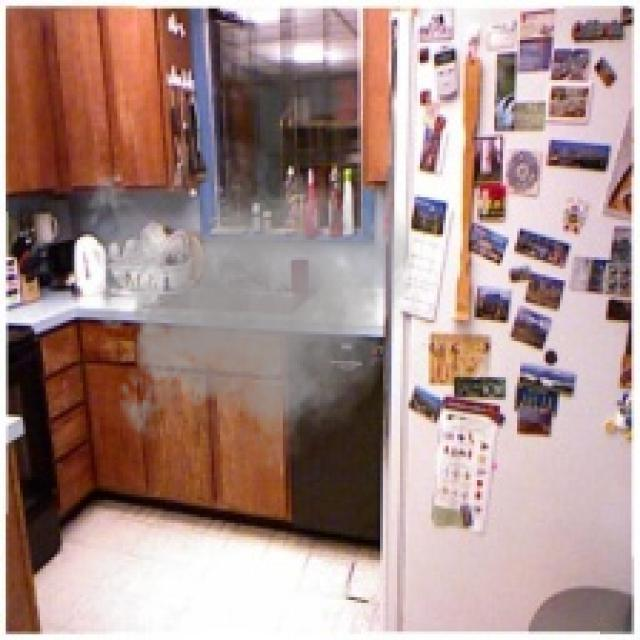Smoke: (77, 120, 420, 489)
